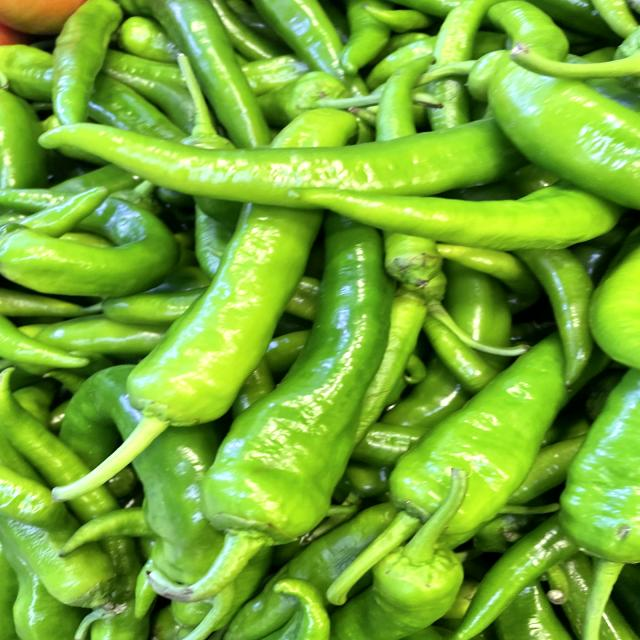green pepper: (141, 200, 399, 604)
